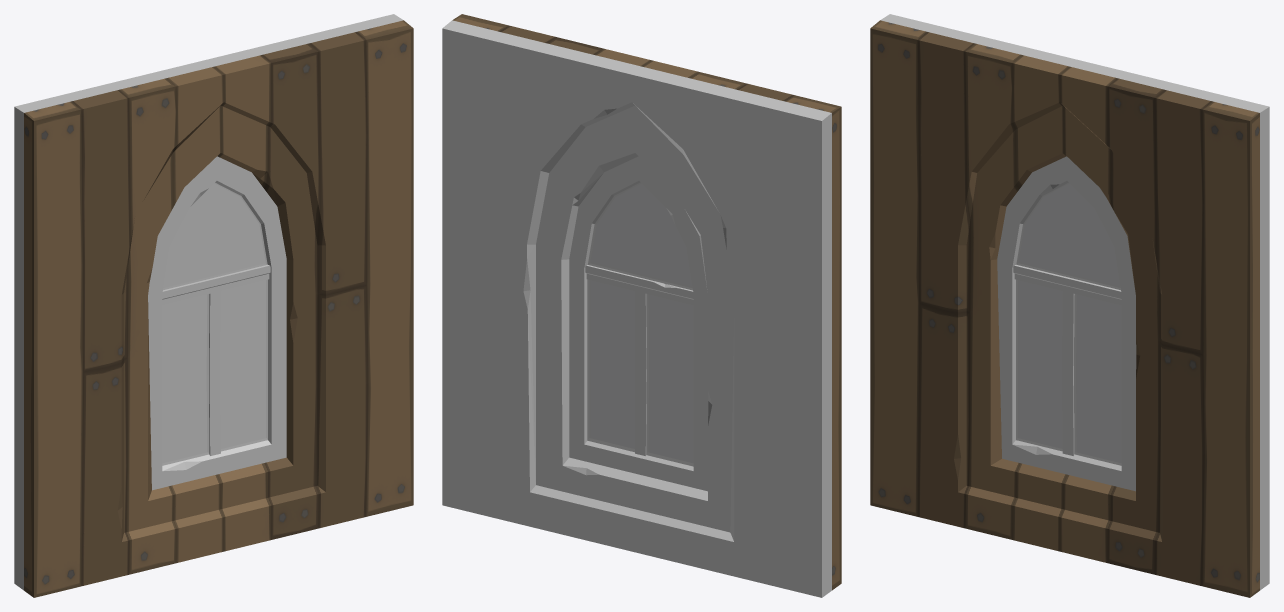
The model's file is SM_Bld_Deco_Wall_Window_03.fbx.
3 views of the same model, side by side, from view 1: azimuth 30°, elevation 25°; view 2: azimuth 150°, elevation 25°; view 3: azimuth 330°, elevation 25° (orthographic).
Visible parts, largest first — view 1: SM_Bld_Deco_Wall_Window_03; view 2: SM_Bld_Deco_Wall_Window_03; view 3: SM_Bld_Deco_Wall_Window_03.
Boxes of the visible parts, x1,y1,x2,y2 form: SM_Bld_Deco_Wall_Window_03: (14, 14, 413, 597); SM_Bld_Deco_Wall_Window_03: (442, 14, 841, 597); SM_Bld_Deco_Wall_Window_03: (870, 14, 1269, 597).
Size of the model in its own units: 250 by 301 by 22.5.
